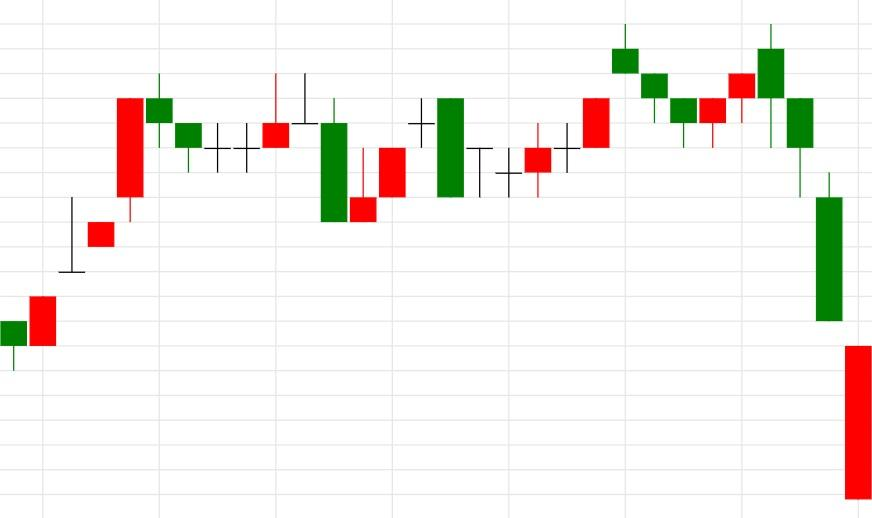inverse_hammer_rise: (291, 72, 378, 224)
three_black_crows_fall: (698, 24, 843, 322), (495, 23, 698, 196)
